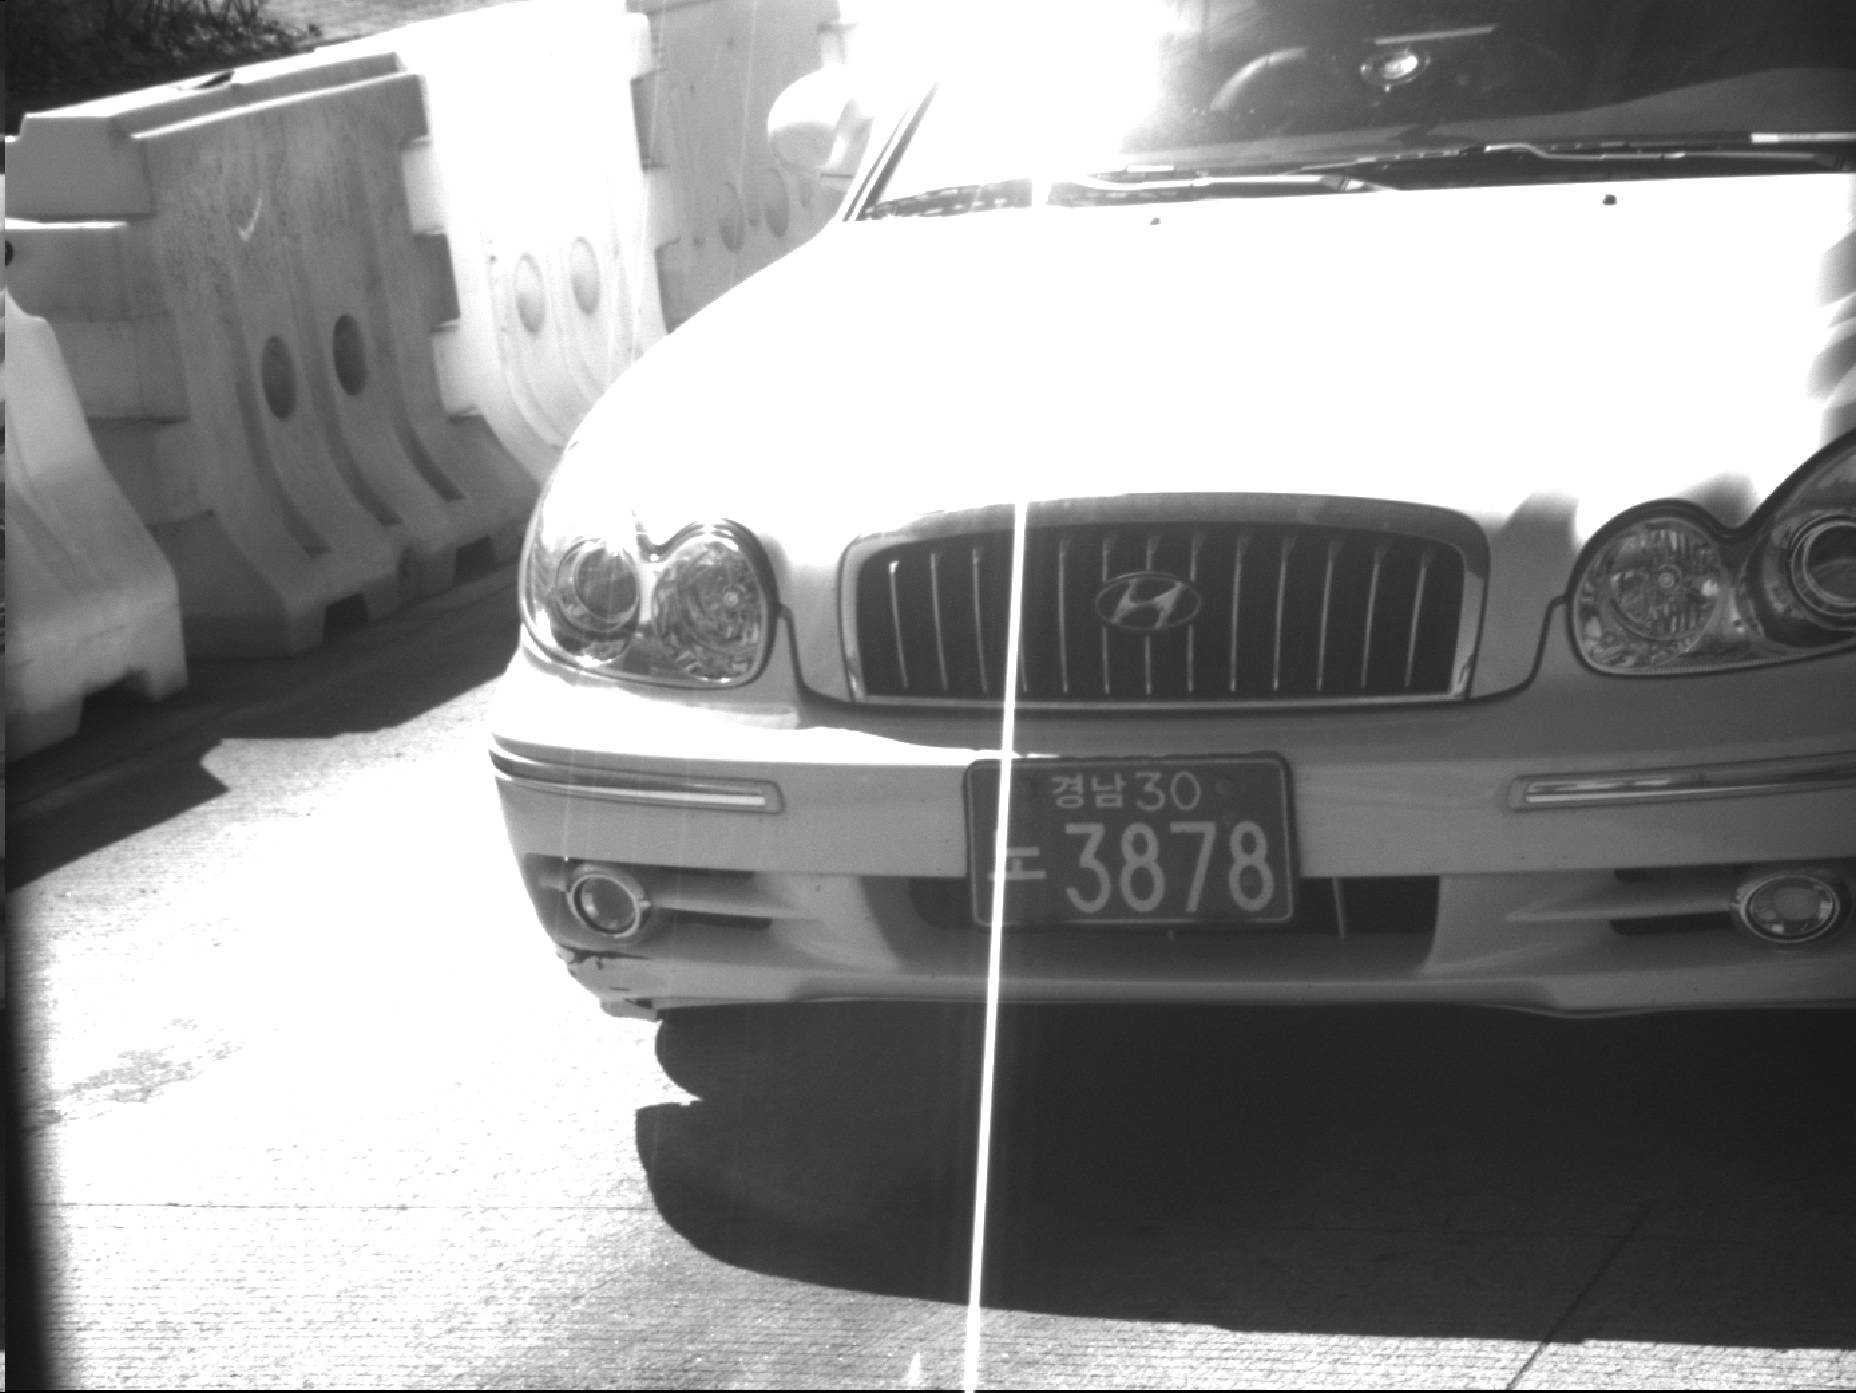car: (481, 1, 1854, 1041)
plate: (956, 750, 1302, 931)
